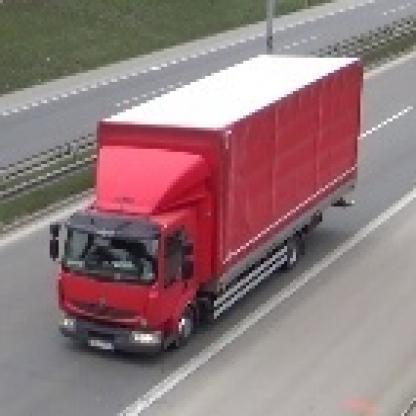truck: (48, 53, 358, 356)
